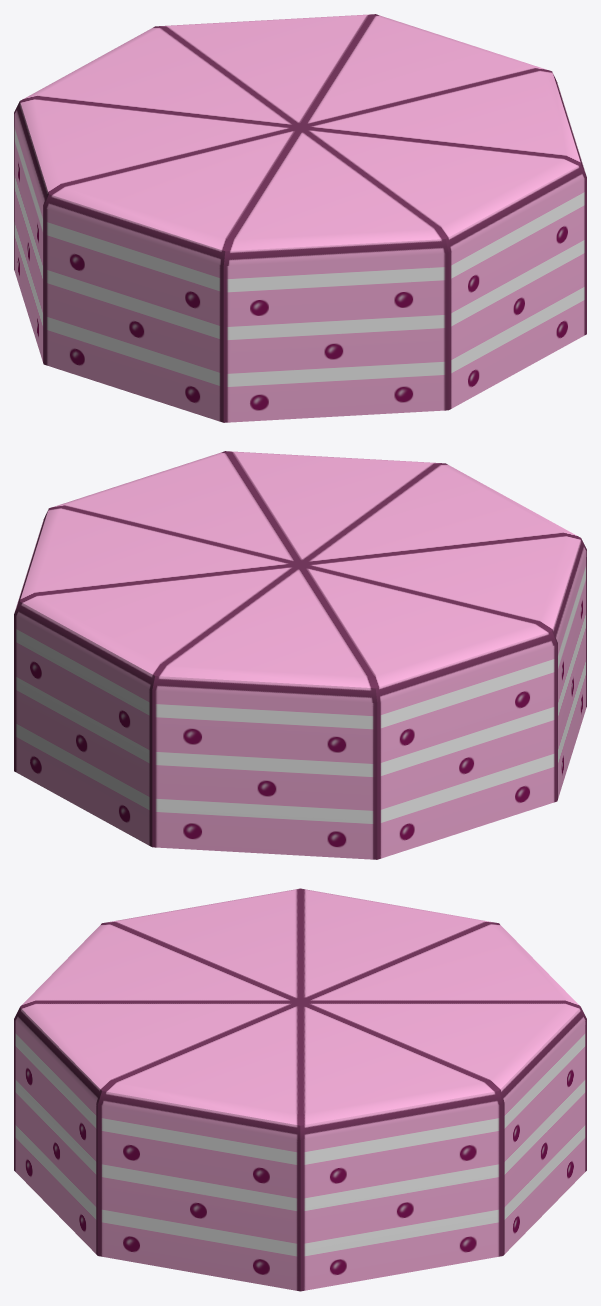
The model's file is Pie.fbx.
The picture shows the model from 3 angles, top to bottom: view 1: azimuth 30°, elevation 25°; view 2: azimuth 150°, elevation 25°; view 3: azimuth 270°, elevation 25°; orthographic projection. The views are drawn at different scales.
Parts seen in each view (by area): view 1: Pie; view 2: Pie; view 3: Pie.
Boxes of the visible parts, bbox=[...] form: Pie: bbox=[14, 14, 586, 422]; Pie: bbox=[14, 451, 586, 859]; Pie: bbox=[14, 888, 586, 1291].
Size of the model in its own units: 9.93 by 3.22 by 9.93.
